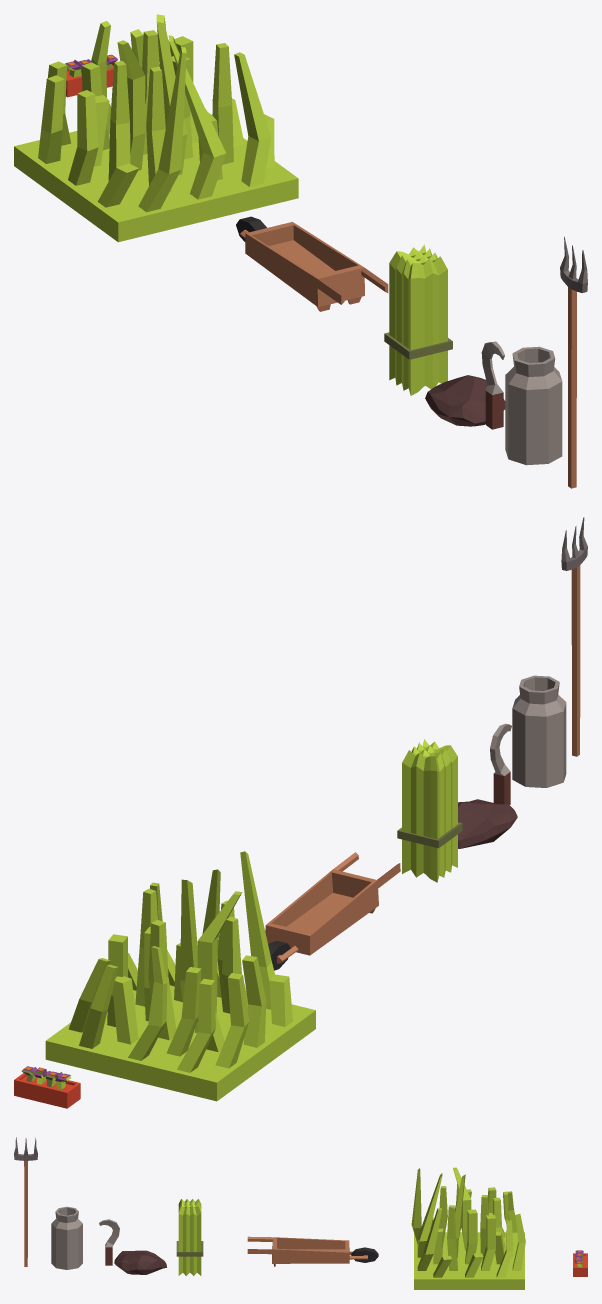
The model's file is items.gltf.
3 renders of one model, top to bottom at view 1: azimuth 30°, elevation 25°; view 2: azimuth 150°, elevation 25°; view 3: azimuth 270°, elevation 25°, orthographic. The views are drawn at different scales.
Visible parts, largest first — view 1: grasland, gras, wheelbarrow, milk_can, pitchfork, poo, sickel, plant_pot; view 2: grasland, gras, wheelbarrow, milk_can, pitchfork, poo, plant_pot, sickel; view 3: grasland, wheelbarrow, gras, milk_can, poo, pitchfork, sickel, plant_pot.
Part boxes in pixels (<box>): grasland: <box>14,14,298,242</box>; gras: <box>384,244,452,395</box>; wheelbarrow: <box>236,216,388,311</box>; milk_can: <box>505,346,562,465</box>; pitchfork: <box>560,236,587,488</box>; poo: <box>425,375,505,426</box>; sickel: <box>481,341,504,429</box>; plant_pot: <box>65,54,117,97</box>; grasland: <box>45,851,315,1101</box>; gras: <box>397,739,462,882</box>; wheelbarrow: <box>265,852,400,970</box>; milk_can: <box>512,675,566,787</box>; pitchfork: <box>561,517,587,756</box>; poo: <box>458,799,517,848</box>; plant_pot: <box>14,1066,80,1108</box>; sickel: <box>490,723,511,804</box>; grasland: <box>411,1167,525,1289</box>; wheelbarrow: <box>247,1236,378,1266</box>; gras: <box>176,1199,203,1275</box>; milk_can: <box>51,1206,82,1269</box>; poo: <box>114,1250,166,1274</box>; pitchfork: <box>14,1137,37,1266</box>; sickel: <box>99,1219,119,1265</box>; plant_pot: <box>573,1250,587,1276</box>.
Bounding box in the file's own units: 2.05 × 2.69 × 10.34.
1 material, 1 textured.
